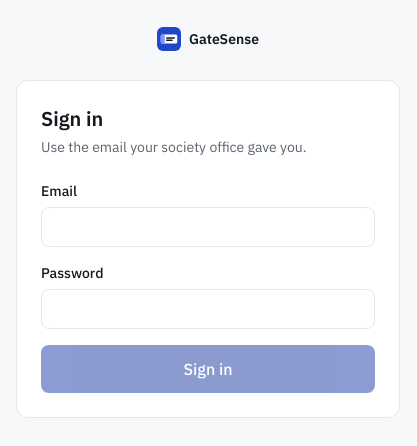
Scenario: Login › shows the API’s error message
Type "someone@example.com" into the field labelled "Email" at (208, 226), box left=41, top=206, right=375, bottom=246
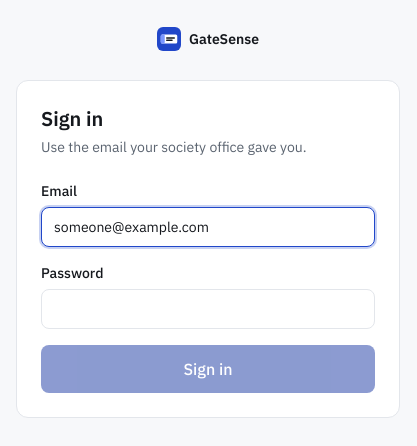
Type "wrong-password" into the password field labelled "Password" at (208, 308), box left=41, top=288, right=375, bottom=328
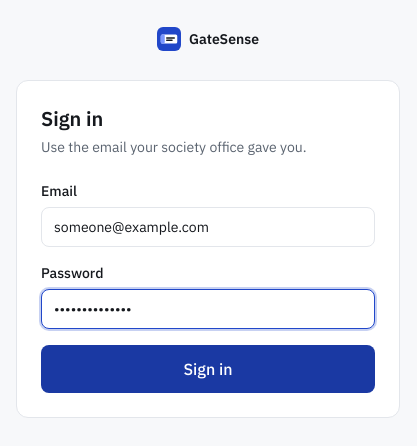
Click the button "Sign in" at (208, 368), box left=41, top=344, right=375, bottom=392
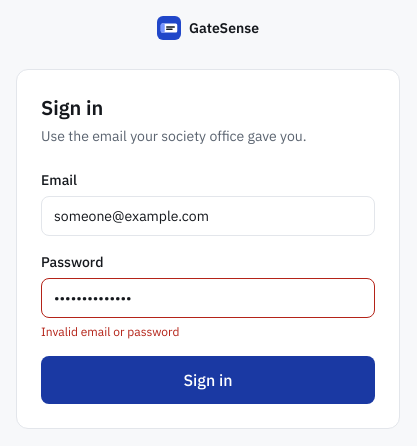
Expected: the text "Invalid email or password" is shown, left=41, top=324, right=179, bottom=338
